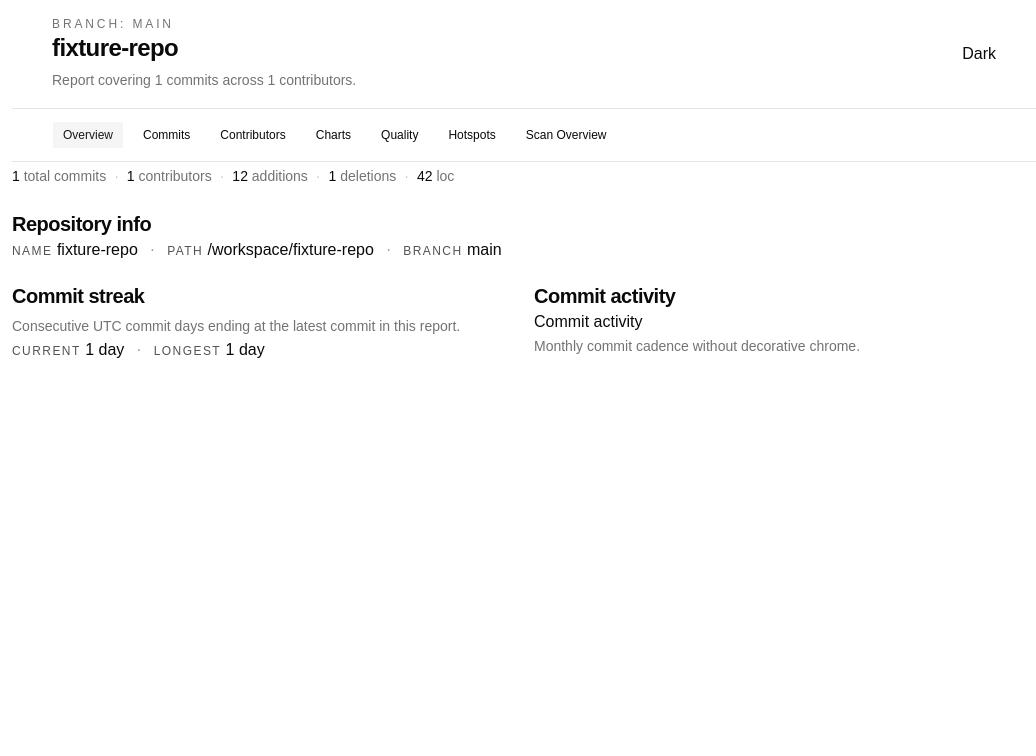
Test: charts navigation › enables the charts hash route from the report shell
Click the link "Charts". click: (333,135)
box: [316,128,351,142]
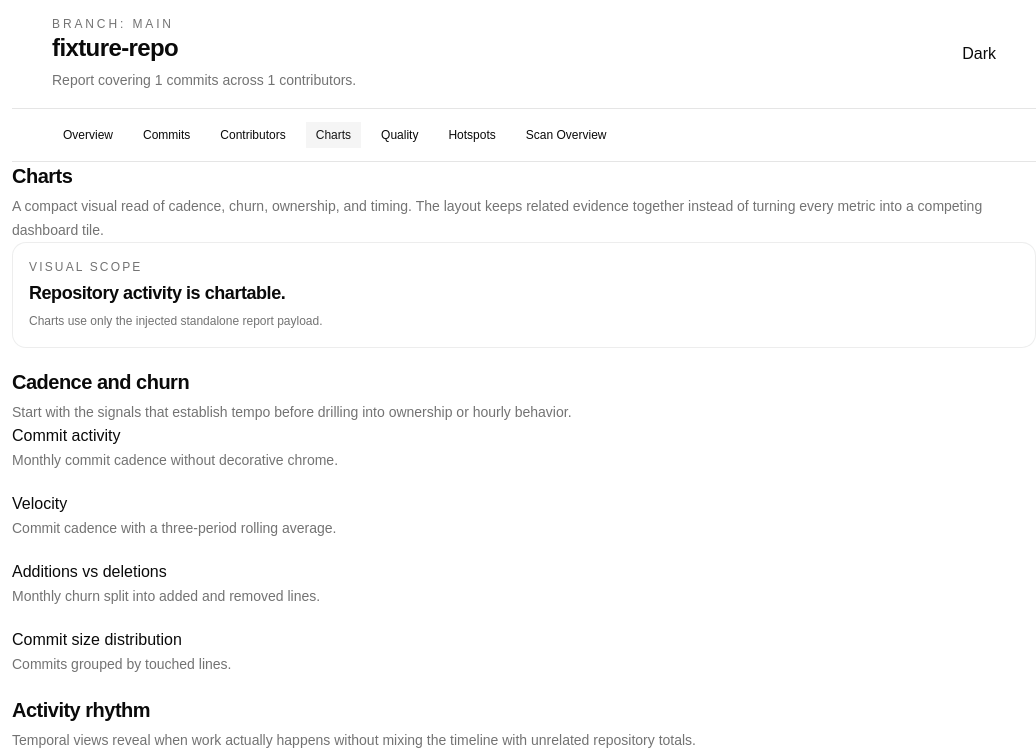
Expected: the link "Charts" is shown, [305,121,362,149]
Expected: the heading "Charts" is shown, [12,165,72,187]
